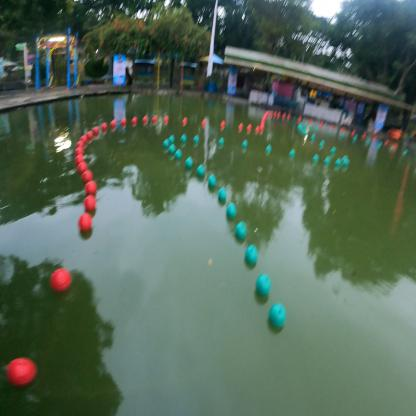green_buoy: (270, 303, 287, 331), (256, 273, 271, 301), (246, 242, 258, 270), (235, 221, 247, 243), (218, 187, 228, 206), (227, 205, 237, 221), (197, 166, 205, 181), (209, 176, 216, 190), (264, 145, 271, 157), (186, 158, 193, 170), (175, 152, 182, 163), (289, 149, 295, 160), (342, 158, 348, 169), (333, 160, 340, 169), (169, 134, 175, 144), (180, 134, 186, 144), (242, 141, 247, 152), (170, 145, 175, 156), (165, 139, 170, 149), (218, 139, 223, 148), (194, 135, 198, 145), (314, 155, 318, 164), (324, 157, 328, 166)
red_buoy: (7, 355, 36, 387), (51, 266, 71, 294), (80, 212, 92, 235), (85, 195, 95, 215), (85, 179, 96, 197), (82, 170, 91, 185), (79, 161, 85, 172)
